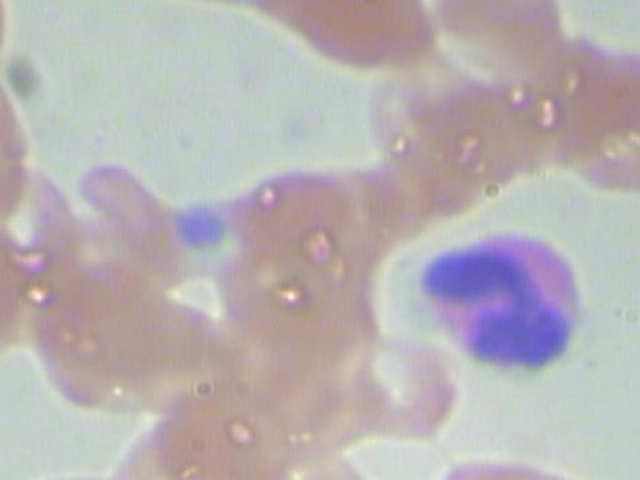Platelets: (168, 202, 237, 249)
RBC: (33, 255, 182, 418), (220, 164, 367, 271), (329, 329, 456, 452), (241, 0, 440, 76), (171, 373, 298, 480), (422, 0, 569, 84), (567, 30, 640, 195), (97, 411, 224, 480), (0, 79, 46, 239), (0, 212, 46, 371), (422, 450, 640, 480), (20, 458, 155, 480), (0, 0, 23, 106)
WBC: (398, 218, 615, 379)
